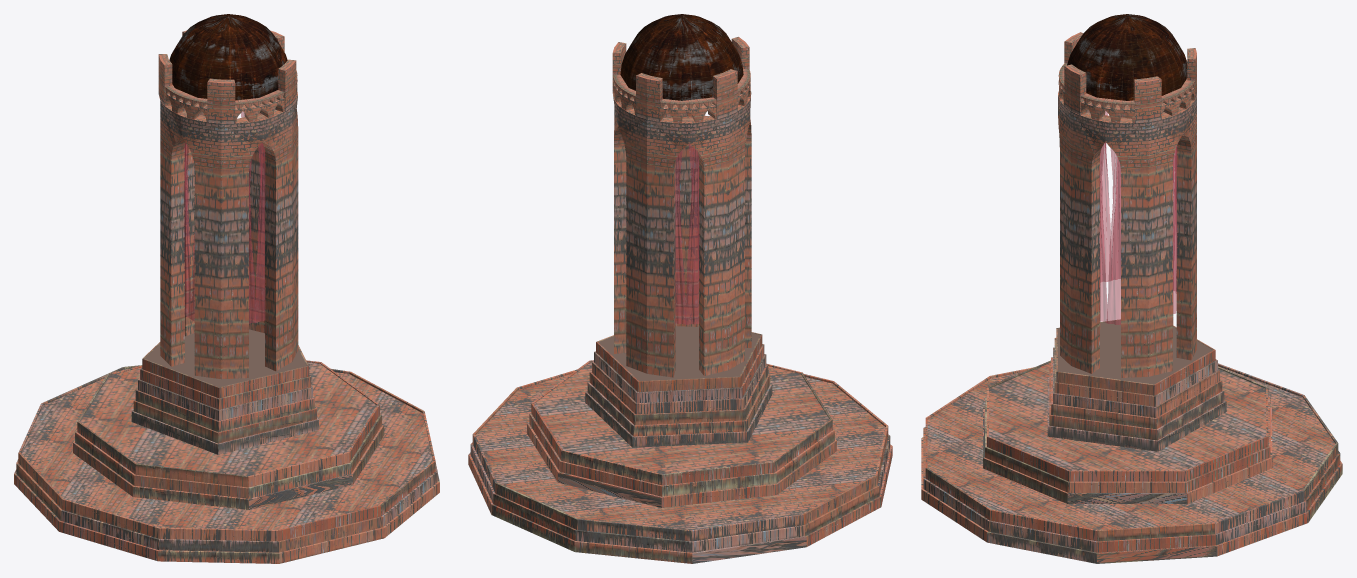
Rendered from SPIRALTOWER-silentspacexport.glb.
3 renders of one model, left to right at view 1: azimuth 30°, elevation 25°; view 2: azimuth 150°, elevation 25°; view 3: azimuth 270°, elevation 25°, orthographic.
Parts seen in each view (by area): view 1: Cube; view 2: Cube; view 3: Cube.
Boxes of the visible parts, x1,y1,x2,y2 form: Cube: (14,14,439,563); Cube: (468,14,892,563); Cube: (921,14,1342,563).
Bounding box in the file's own units: 28.73 × 34.13 × 28.43.
3 materials, 2 textured.
